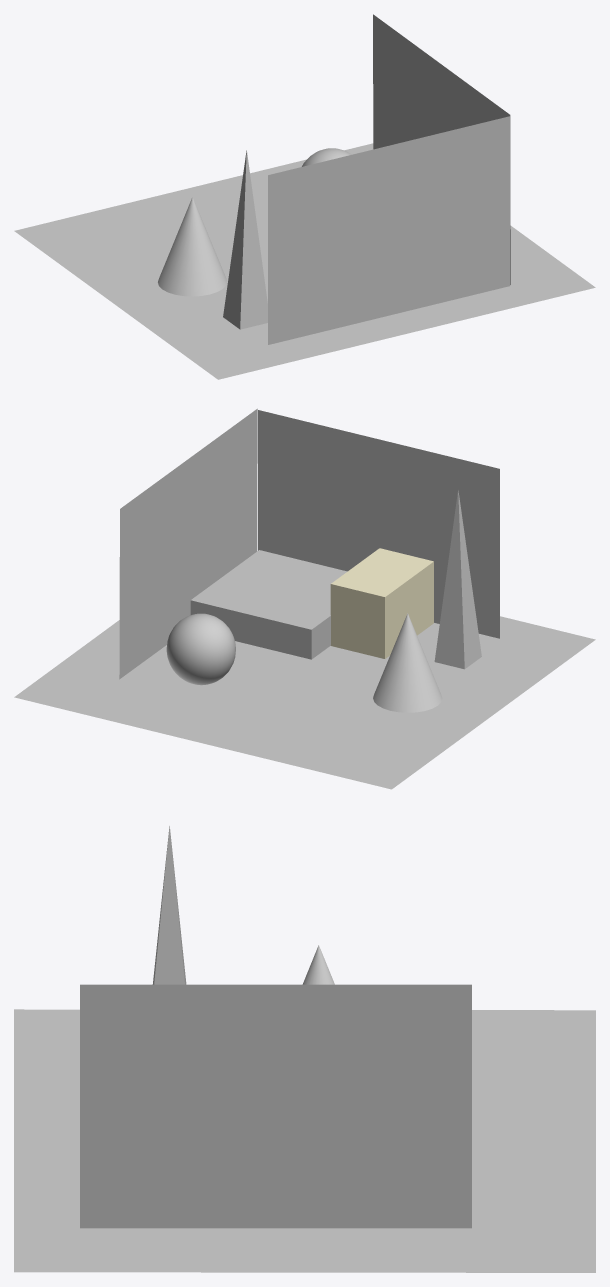
The model's file is env_penetration_landscape.glb.
3 views of the same model, one above another, from view 1: azimuth 30°, elevation 25°; view 2: azimuth 150°, elevation 25°; view 3: azimuth 270°, elevation 25° (orthographic). The views are drawn at different scales.
Visible parts, largest first — view 1: Plane03, Plane01, Plane04, Pyramid02, Cone01; view 2: Plane01, Plane03, Plane04, Box03, Box01, Pyramid02, Sphere02, Cone01; view 3: Plane04, Plane01, Pyramid02, Cone01.
Boxes of the visible parts, <box> form: Plane03: <box>268,116,509,344</box>; Plane01: <box>14,143,595,379</box>; Plane04: <box>373,14,510,284</box>; Pyramid02: <box>223,150,267,329</box>; Cone01: <box>158,197,227,296</box>; Plane01: <box>14,616,595,789</box>; Plane03: <box>258,410,499,638</box>; Plane04: <box>119,408,257,679</box>; Box03: <box>190,550,347,659</box>; Box01: <box>330,548,433,658</box>; Pyramid02: <box>434,490,481,669</box>; Sphere02: <box>166,613,235,685</box>; Cone01: <box>373,613,442,712</box>; Plane04: <box>80,984,471,1228</box>; Plane01: <box>14,1009,595,1272</box>; Pyramid02: <box>152,826,186,984</box>; Cone01: <box>302,945,334,984</box>.
Bounding box in the file's own units: 4.68 × 2.05 × 4.38.
